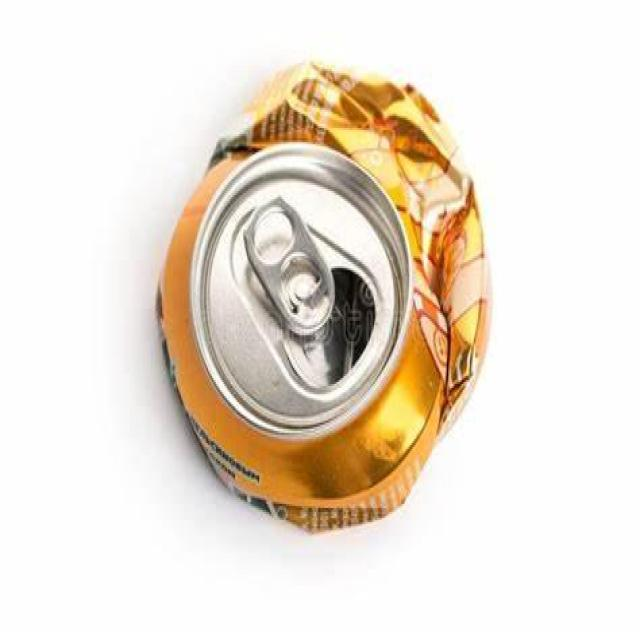can: (156, 59, 490, 534)
pop tab: (242, 193, 336, 336)
